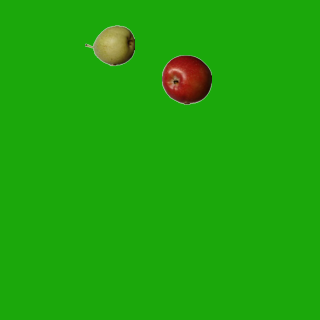Apple Braeburn: (161, 54, 211, 104)
Pear: (84, 20, 134, 70)
